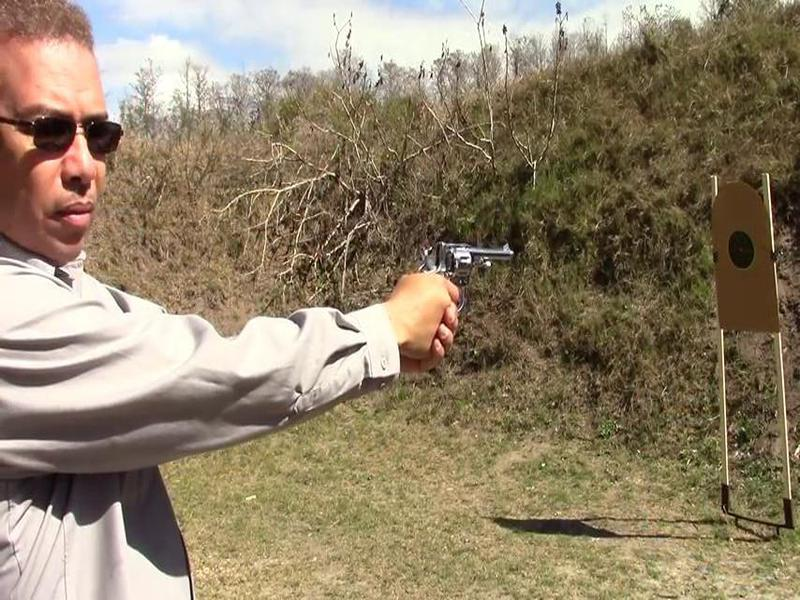Revolver: (407, 230, 525, 307)
